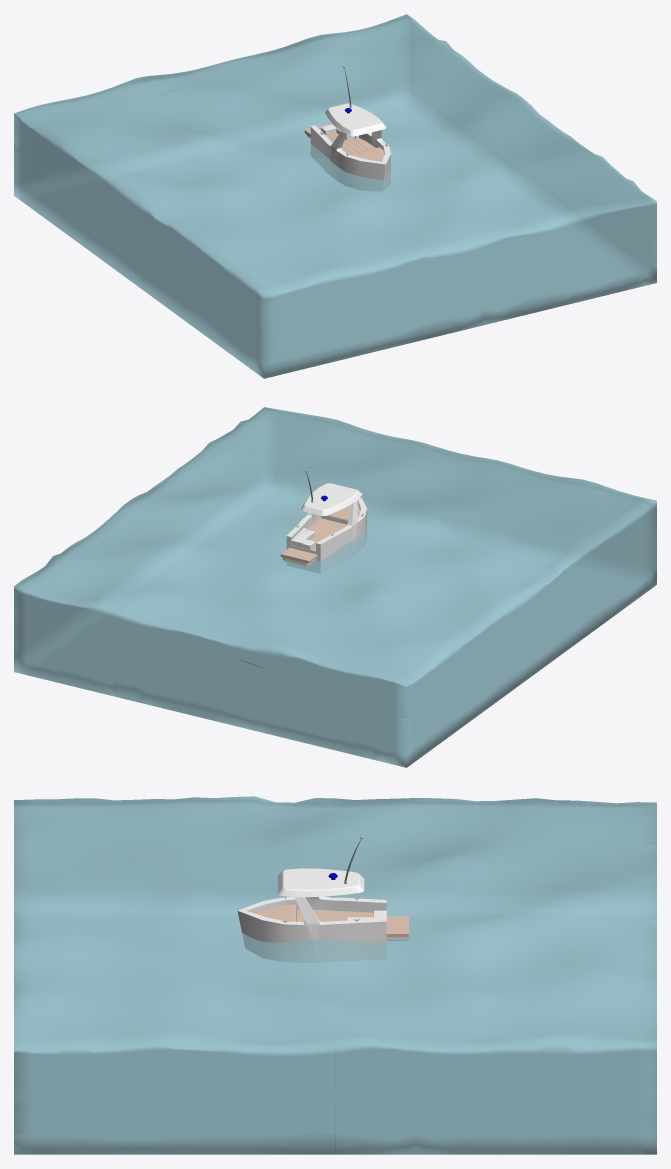
Rendered from Boat Cube.fbx.
3 renders of one model, top to bottom at view 1: azimuth 30°, elevation 25°; view 2: azimuth 150°, elevation 25°; view 3: azimuth 270°, elevation 25°, orthographic. The views are drawn at different scales.
Parts seen in each view (by area): view 1: Water, BoatBody, Roof; view 2: Water, BoatBody, Roof; view 3: Water, BoatBody, Roof, Front_Planks.
Boxes of the visible parts, bbox=[...] form: Water: bbox=[14, 14, 656, 378]; BoatBody: bbox=[310, 125, 390, 191]; Roof: bbox=[325, 103, 386, 136]; Water: bbox=[14, 407, 656, 767]; BoatBody: bbox=[286, 497, 366, 573]; Roof: bbox=[301, 483, 362, 515]; Water: bbox=[14, 796, 656, 1154]; BoatBody: bbox=[237, 896, 386, 962]; Roof: bbox=[278, 868, 364, 897]; Front_Planks: bbox=[254, 904, 296, 921].
Bounding box in the file's own units: 16 × 6.28 × 17.65.
